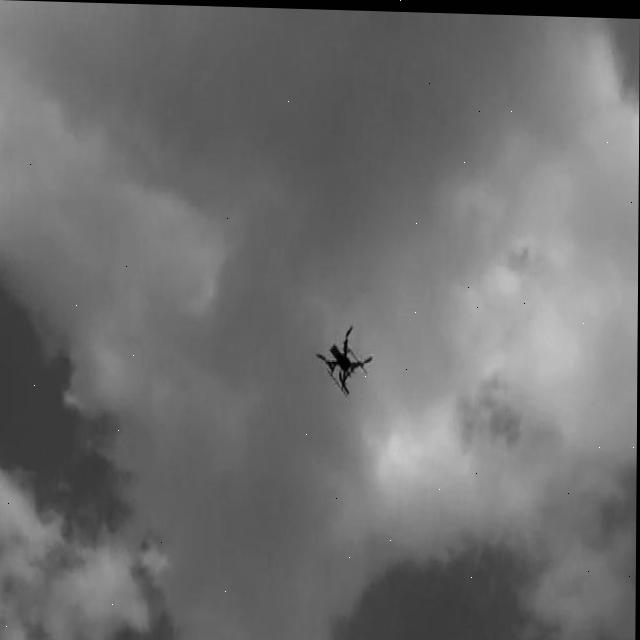drone: (314, 318, 374, 394)
